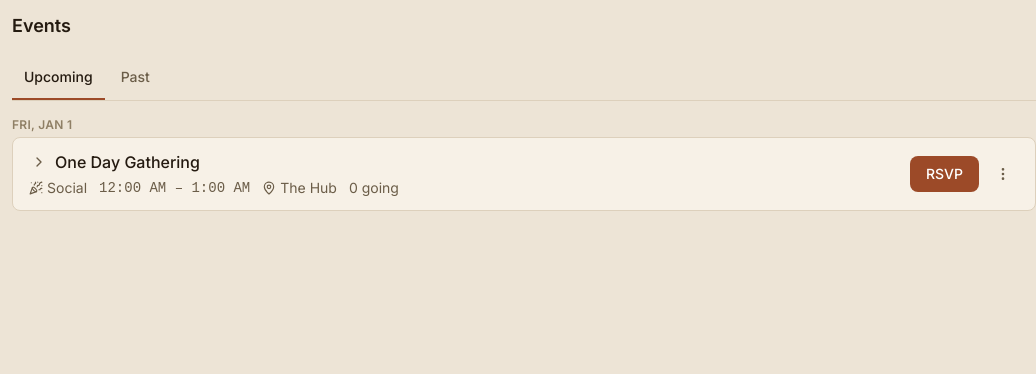
Test: EventsSection › Approach B › skips day-headers in the expand panel when all side-events fall on the same day
The width and height of the screenshot is (1036, 374).
expect the link "One Day Gathering" is shown: met, box [55,150,200,174]
Click the button named "Expand side-events" at [39, 162], box [29,152,49,172]
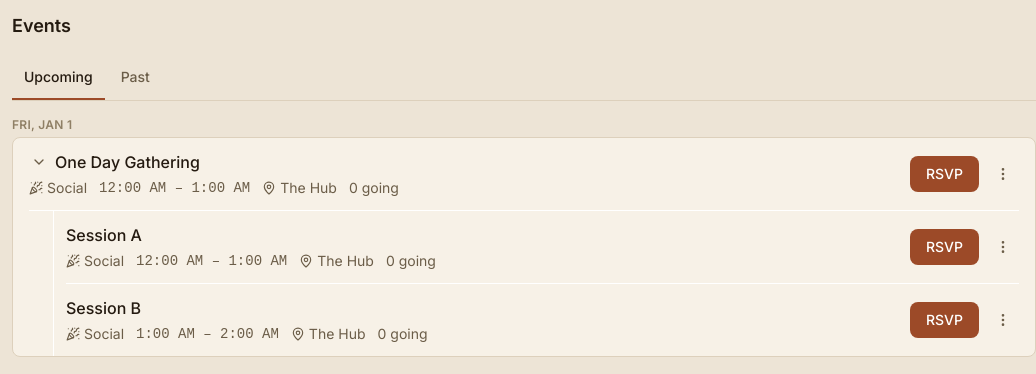
expect the link "Session A" is shown: met, box [66,223,142,247]
expect the link "Session B" is shown: met, box [66,296,141,320]
